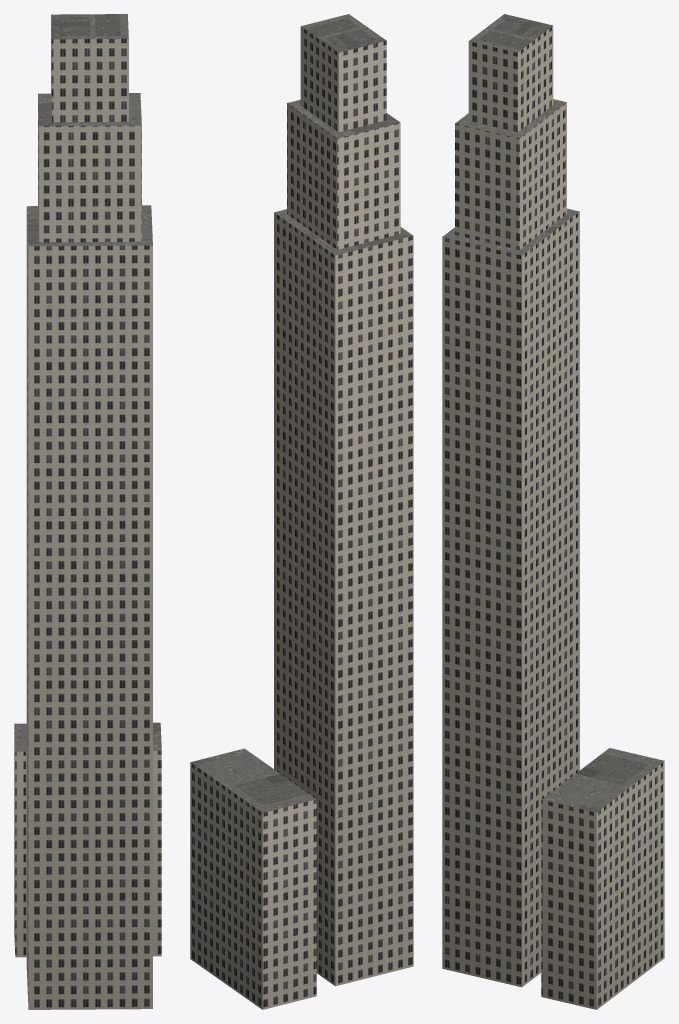
Rendered from cps220.glb.
3 renders of one model, left to right at view 1: azimuth 30°, elevation 25°; view 2: azimuth 150°, elevation 25°; view 3: azimuth 270°, elevation 25°, orthographic. The views are drawn at different scales.
Parts seen in each view (by area): view 1: cps220; view 2: cps220; view 3: cps220.
Part boxes in pixels (x1=…): cps220: x1=14, y1=14, x2=161, y2=1009; cps220: x1=190, y1=14, x2=413, y2=1009; cps220: x1=442, y1=14, x2=664, y2=1009.
Bounding box in the file's own units: 57.57 × 290 × 63.42.
Materials: 8 (8 with a texture image).
